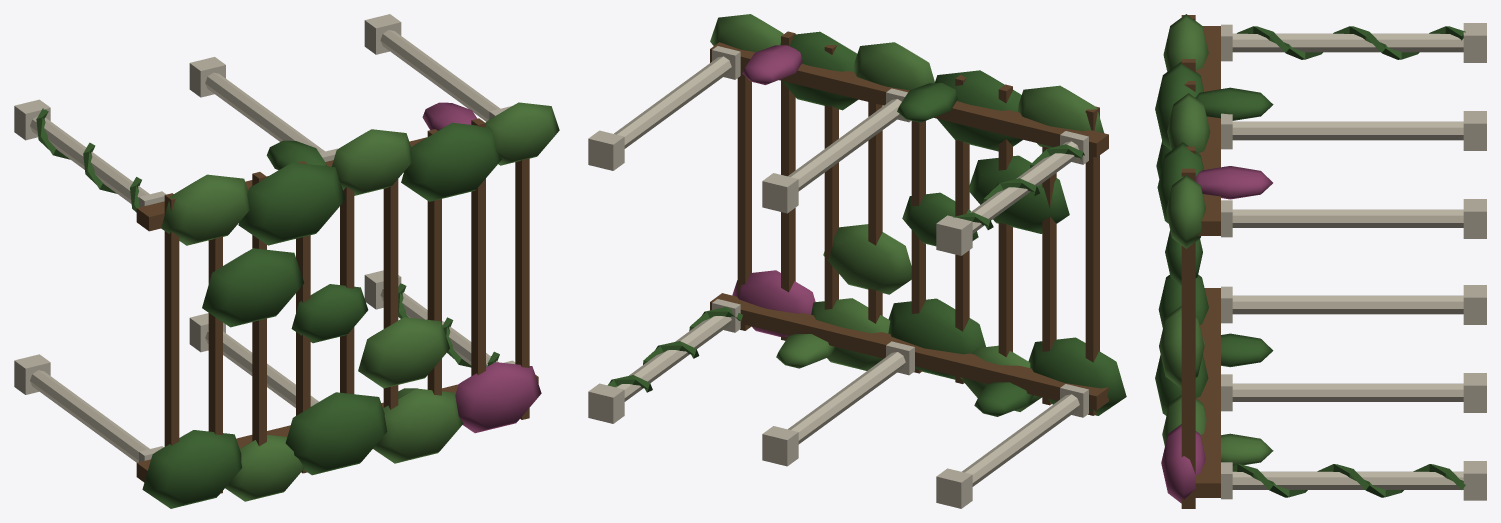
The model's file is pergola-bcn.glb.
3 views of the same model, side by side, from view 1: azimuth 30°, elevation 25°; view 2: azimuth 150°, elevation 25°; view 3: azimuth 270°, elevation 25° (orthographic). The views are drawn at different scales.
Parts seen in each view (by area): view 1: pergola-bcn; view 2: pergola-bcn; view 3: pergola-bcn.
Boxes of the visible parts, x1,y1,x2,y2 form: pergola-bcn: (14,14,559,508); pergola-bcn: (588,14,1126,508); pergola-bcn: (1155,14,1486,508).
Size of the model in its own units: 4.3 by 3.35 by 2.87.
